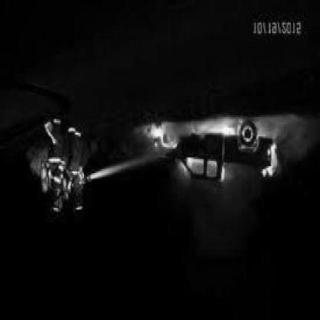Fire: (148, 120, 290, 188)
